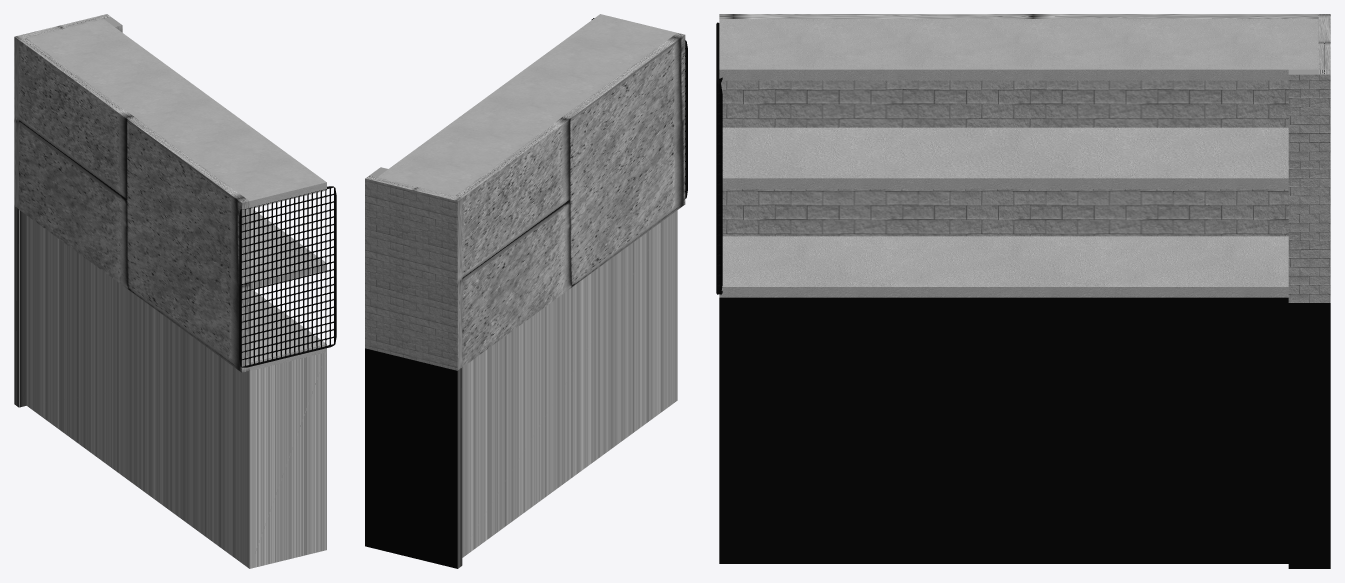
File: Bosslevel1.fbx
3 renders of one model, left to right at view 1: azimuth 30°, elevation 25°; view 2: azimuth 150°, elevation 25°; view 3: azimuth 270°, elevation 25°, orthographic. The views are drawn at different scales.
Parts seen in each view (by area): view 1: Cube, Cube.003, Cube.002, Plane.004, Cube.004, Cube.001; view 2: Cube, Cube.003, Cube.004, Cube.002, Plane.004; view 3: Cube, Cube.003, Cube.002, Cube.001, Cube.004, Plane.004.
Part boxes in pixels (left/top/right/bottom): Cube: left=26, top=215, right=326, bottom=568; Cube.003: left=19, top=38, right=249, bottom=372; Cube.002: left=27, top=19, right=326, bottom=208; Plane.004: left=239, top=186, right=336, bottom=367; Cube.004: left=14, top=14, right=122, bottom=407; Cube.001: left=250, top=208, right=326, bottom=289; Cube: left=462, top=210, right=677, bottom=557; Cube.003: left=455, top=33, right=685, bottom=367; Cube.004: left=365, top=167, right=462, bottom=568; Cube.002: left=377, top=14, right=676, bottom=195; Plane.004: left=591, top=18, right=687, bottom=198; Cube: left=719, top=236, right=1288, bottom=563; Cube.003: left=719, top=14, right=1318, bottom=236; Cube.002: left=719, top=19, right=1318, bottom=80; Cube.001: left=722, top=127, right=1288, bottom=189; Cube.004: left=1288, top=14, right=1330, bottom=568; Plane.004: left=716, top=22, right=722, bottom=294.
Bounding box in the file's own units: 246 × 910 × 1025.
